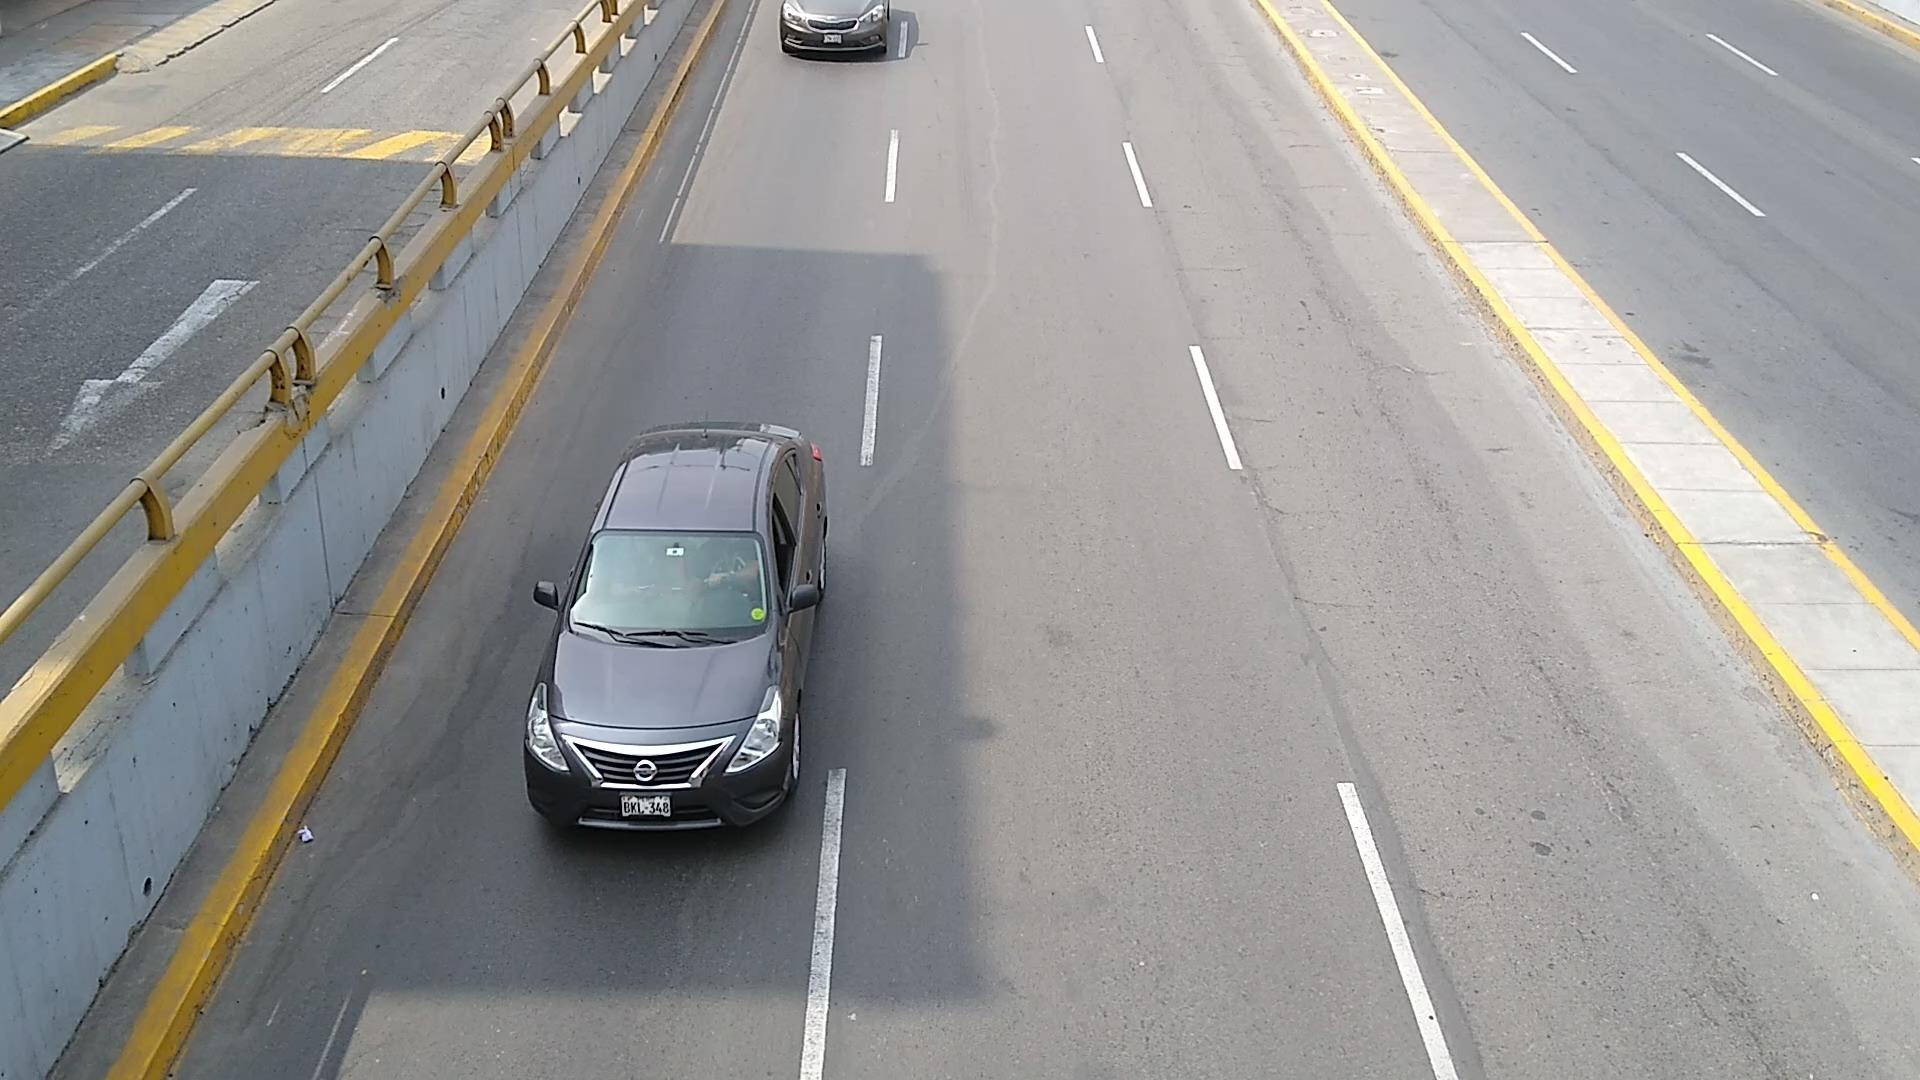car: (525, 423, 828, 832), (781, 0, 893, 61), (899, 15, 915, 54)
